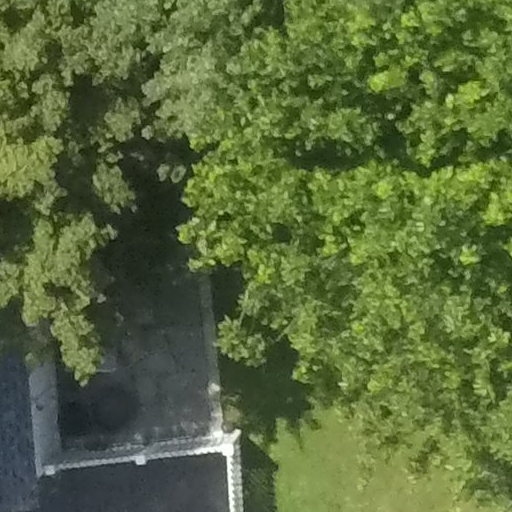fence: (41, 437, 255, 473), (218, 428, 259, 512)
